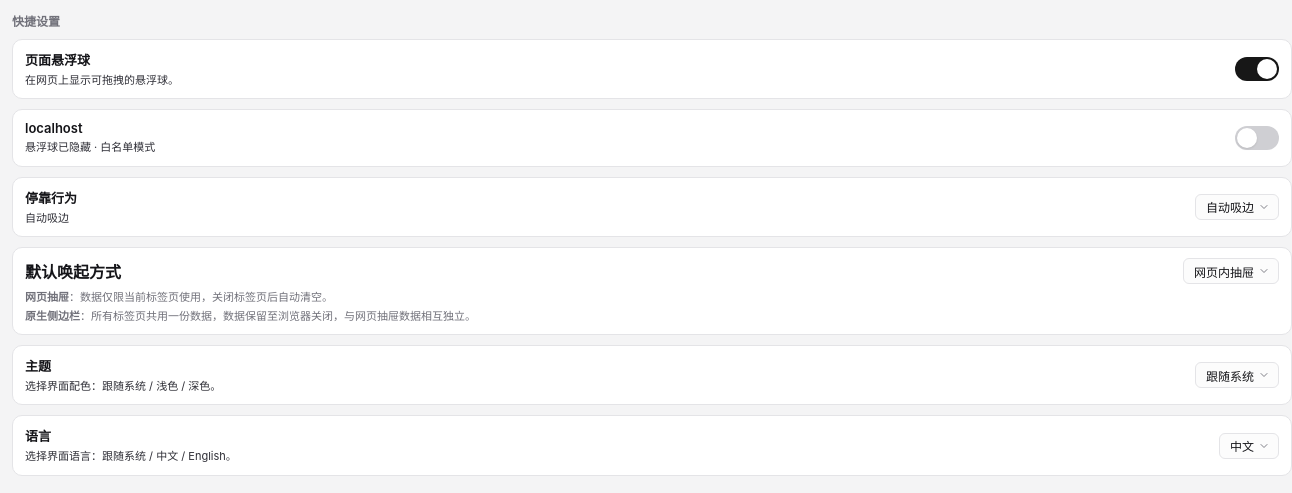
Test case: QuickSettings 本站悬浮球开关（域名规则联动） › 白名单模式：默认隐藏，点击把本站加入白名单后允许显示
Expected: the list item "localhost 悬浮球已隐藏 · 白名单模式" is shown, [12,109,1291,167]
Click the switch named "在此网站启用": coordinates (1257, 138) [1235,126,1279,150]
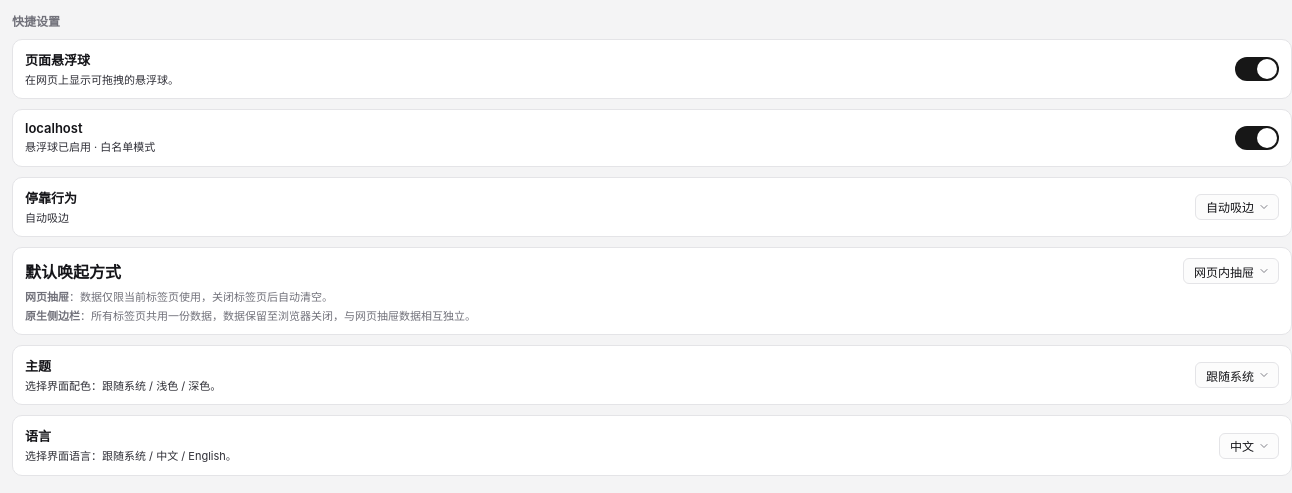
Result: the list item "localhost 悬浮球已启用 · 白名单模式" is shown at [12,109,1291,167]
